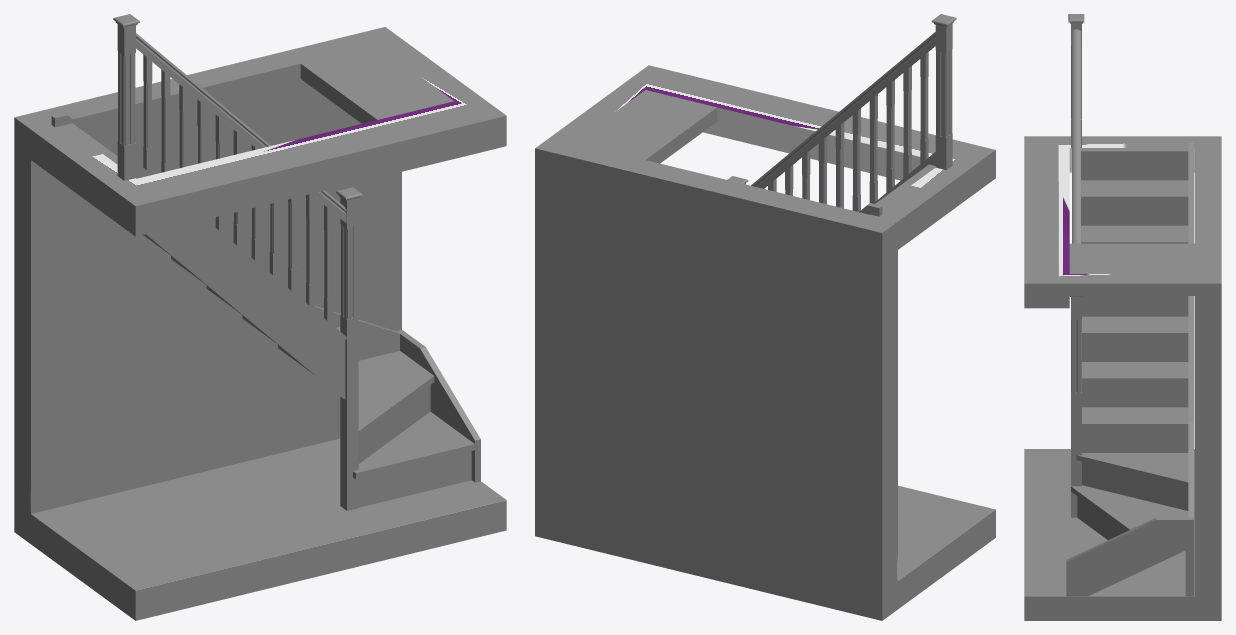
3 views of the same model, side by side, from view 1: azimuth 30°, elevation 25°; view 2: azimuth 150°, elevation 25°; view 3: azimuth 270°, elevation 25° (orthographic). The views are drawn at different scales.
Bounding box in the file's own units: 101 × 149 × 57.2.
